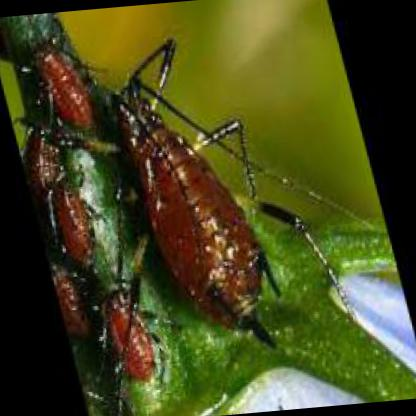uroleucon compositae: (113, 41, 282, 349)
